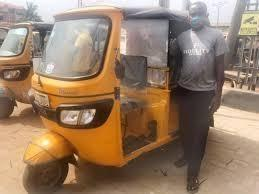keke: (22, 0, 227, 191)
